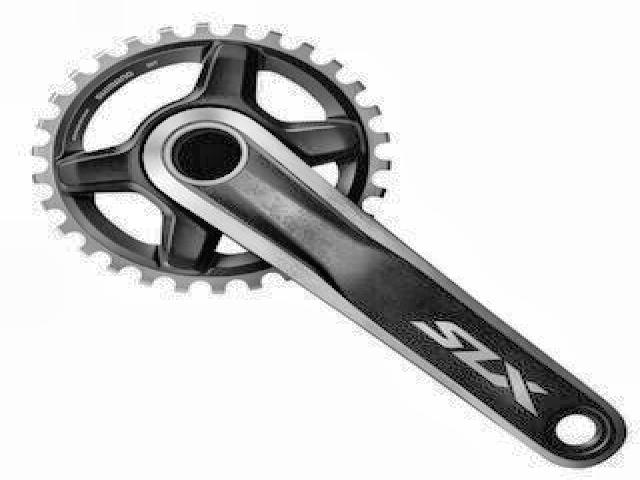cranks_set: (30, 21, 629, 475)
